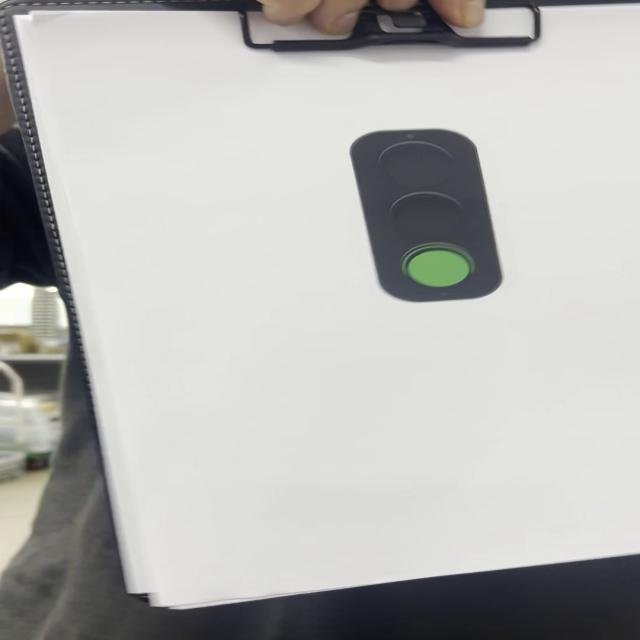green: (352, 128, 503, 304)
